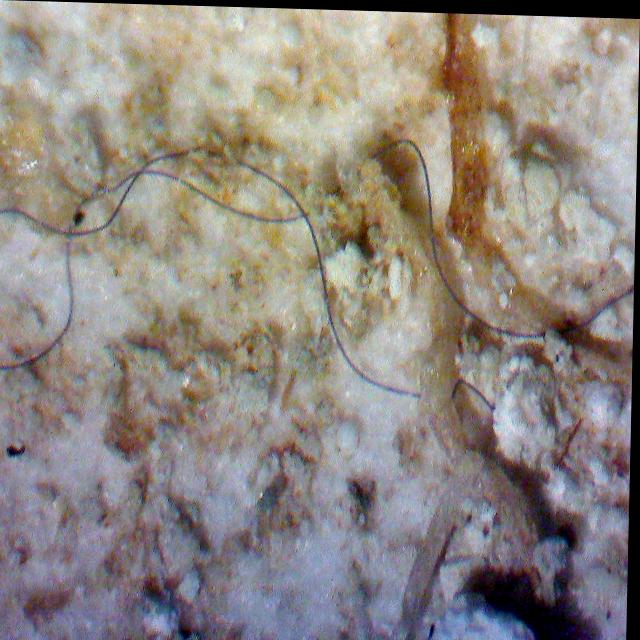microplastic: (0, 88, 476, 401), (0, 106, 312, 379), (328, 125, 638, 381)
